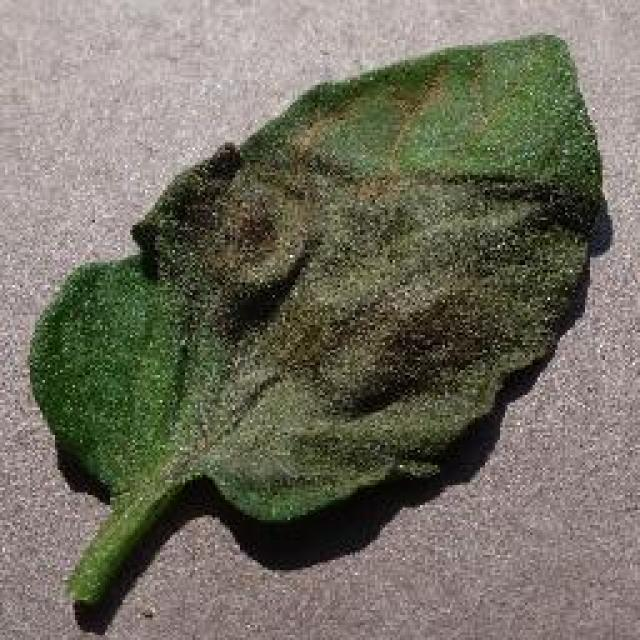Tomato___Late_blight: (26, 35, 615, 612)
